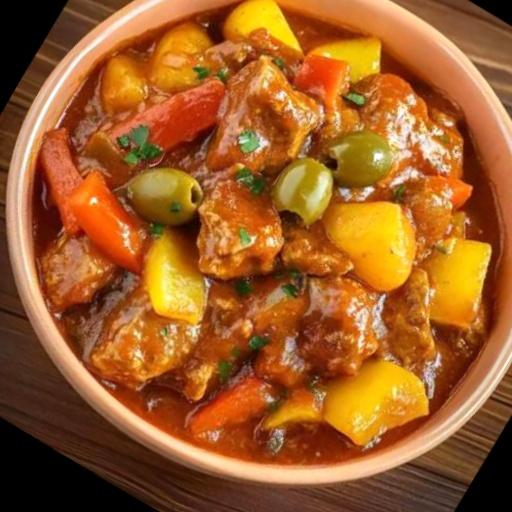pork caldereta: (31, 7, 507, 471)
